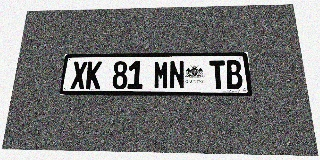1: (127, 61, 143, 89)
8: (112, 61, 128, 89)
B: (225, 60, 243, 89)
K: (85, 61, 102, 89)
M: (153, 61, 169, 89)
N: (169, 61, 185, 89)
T: (209, 60, 227, 89)
X: (70, 61, 87, 89)
